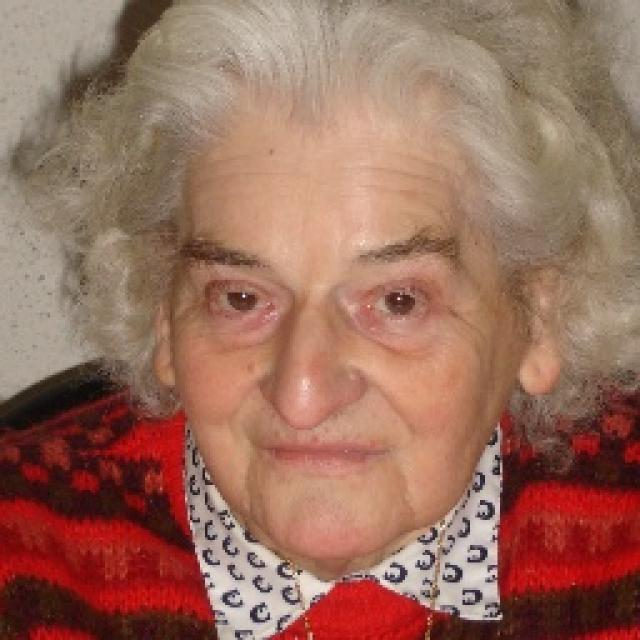earlobe: (517, 239, 568, 399), (143, 261, 179, 390)
